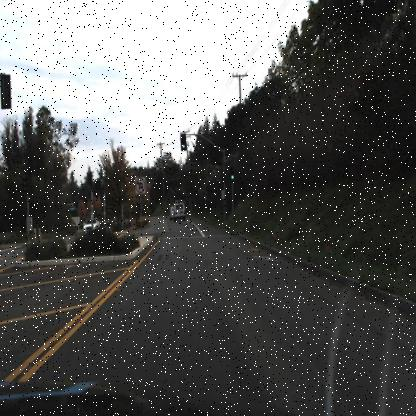car: (78, 212, 101, 236), (80, 216, 102, 236), (173, 204, 189, 223)
trafficLight-Green: (180, 130, 190, 152), (179, 132, 187, 152), (228, 166, 235, 188), (229, 162, 237, 180)
